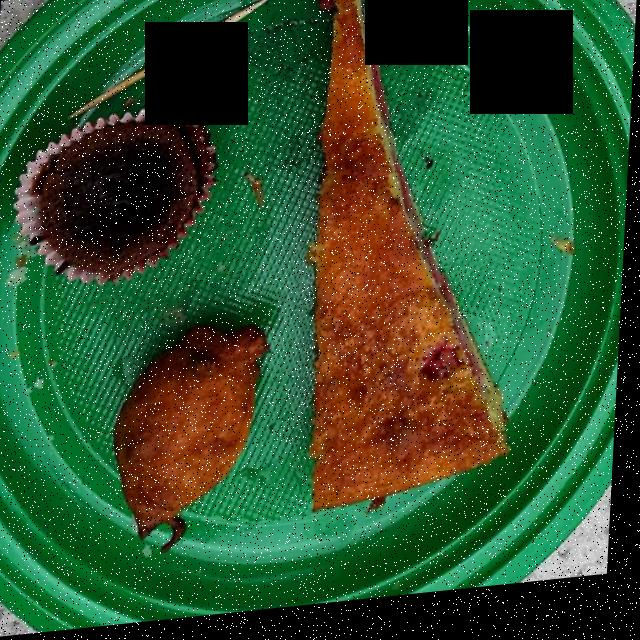fruit-tart: (320, 0, 514, 519)
